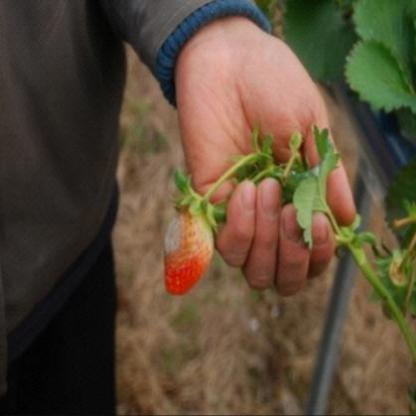Strawberry_Gray_Mold: (163, 212, 194, 270)
